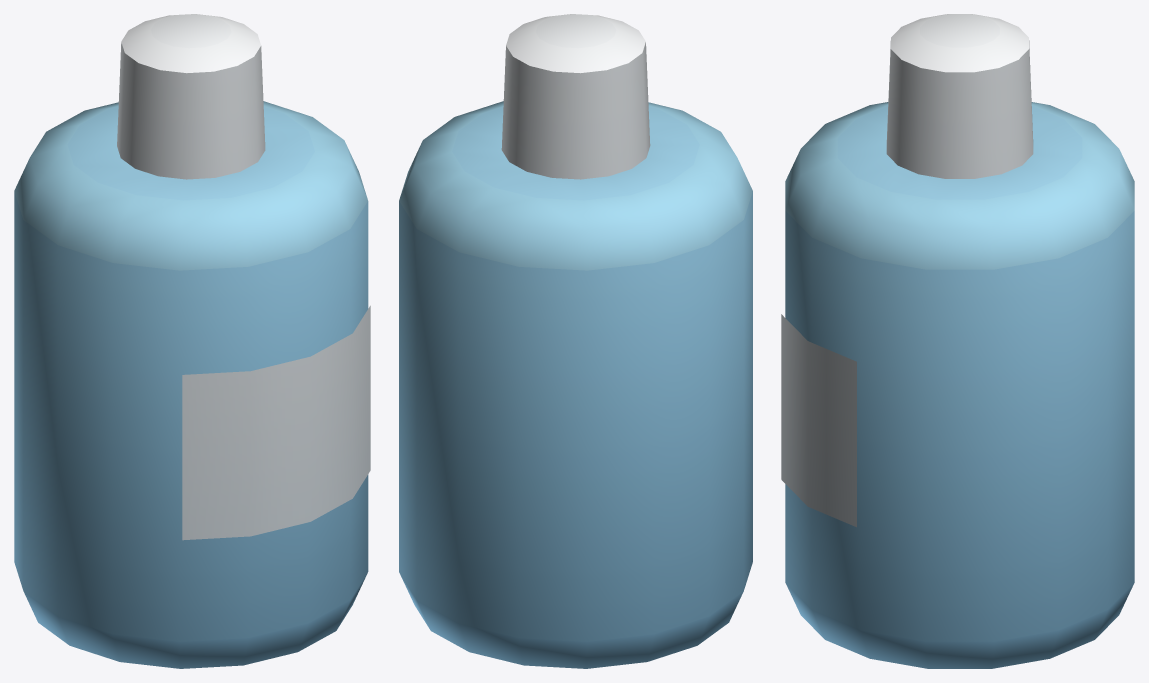
The model's file is Container Bathroom A (1).glb.
3 renders of one model, left to right at view 1: azimuth 30°, elevation 25°; view 2: azimuth 150°, elevation 25°; view 3: azimuth 270°, elevation 25°, orthographic.
Visible parts, largest first — view 1: container_bathroom_A_blue; view 2: container_bathroom_A_blue; view 3: container_bathroom_A_blue.
Part boxes in pixels (<box>): container_bathroom_A_blue: <box>14,14,370,668</box>; container_bathroom_A_blue: <box>399,14,752,668</box>; container_bathroom_A_blue: <box>781,14,1134,668</box>.
Bounding box in the file's own units: 0.312 × 0.5778 × 0.3162.
Materials: 1 (1 with a texture image).
